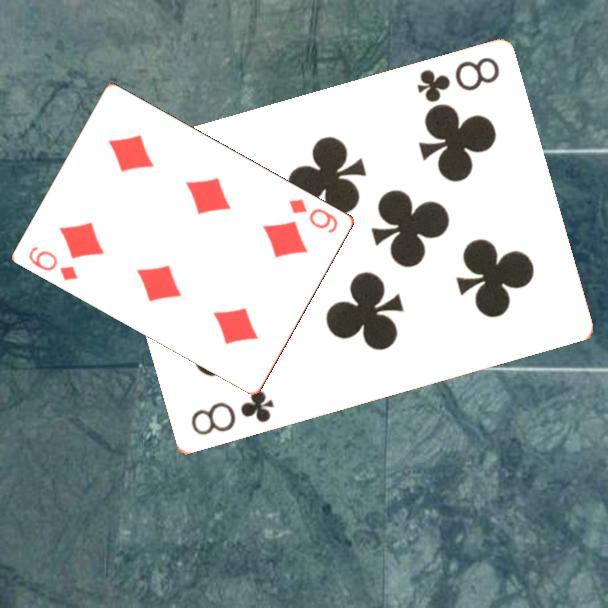c08: (187, 387, 277, 439), (413, 54, 502, 106)
d06: (25, 242, 82, 283), (286, 195, 341, 236)
